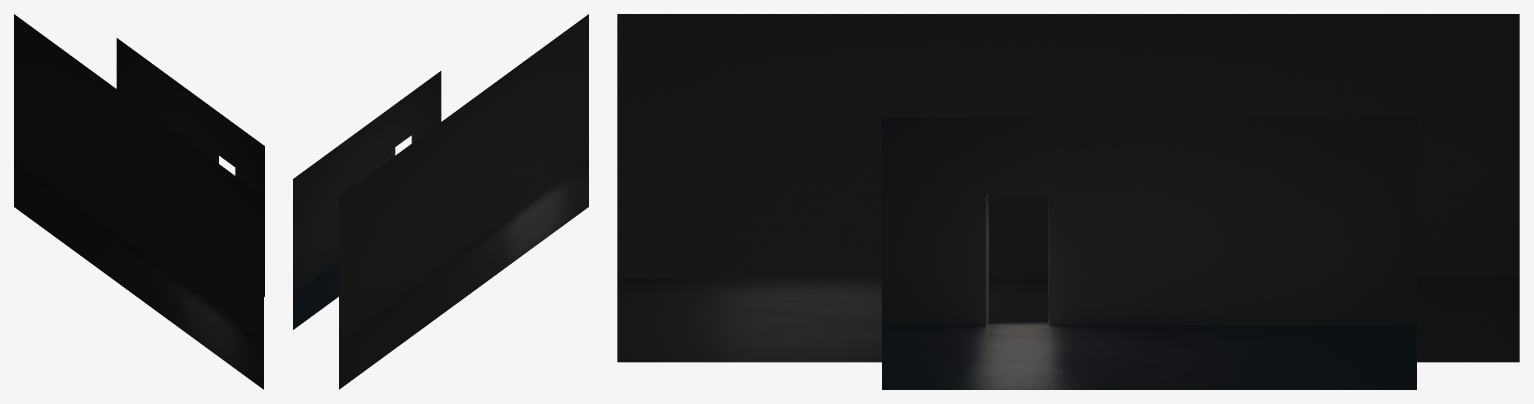
The model's file is room7.glb.
3 renders of one model, left to right at view 1: azimuth 30°, elevation 25°; view 2: azimuth 150°, elevation 25°; view 3: azimuth 270°, elevation 25°, orthographic. The views are drawn at different scales.
Visible parts, largest first — view 1: noDoor, gallery-wall; view 2: noDoor, gallery-wall; view 3: noDoor, gallery-wall.
Part boxes in pixels (x1,y1,x2,y2): noDoor: (14, 14, 263, 389); gallery-wall: (116, 38, 264, 296); noDoor: (339, 14, 588, 389); gallery-wall: (293, 71, 441, 329); noDoor: (617, 14, 1519, 362); gallery-wall: (882, 117, 1416, 389).
Size of the model in its own units: 1.06 by 2.65 by 6.22.
2 materials, 2 textured.
